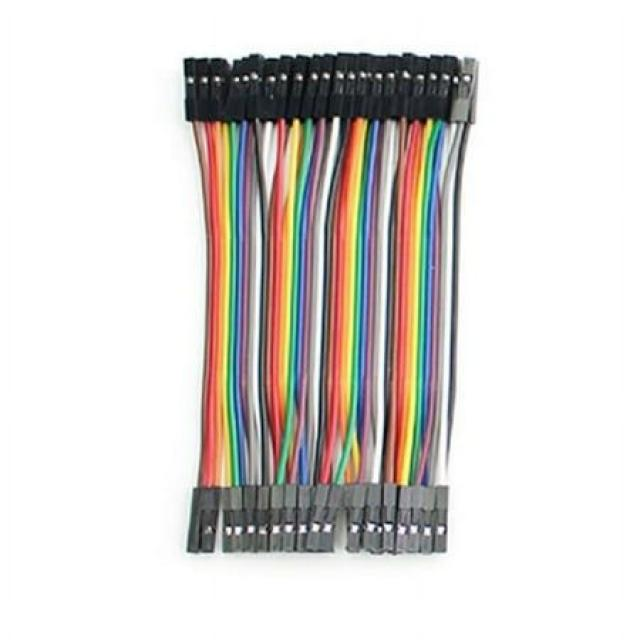Jumper Wires: (160, 36, 494, 568)
